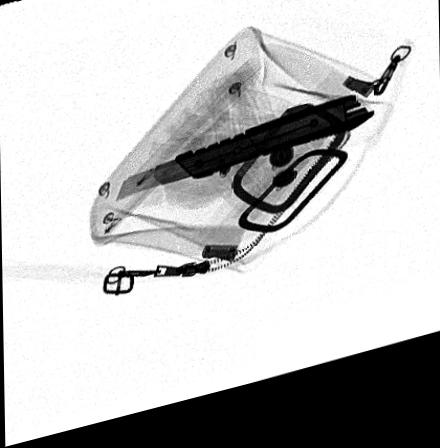Knife: (112, 111, 375, 208)
